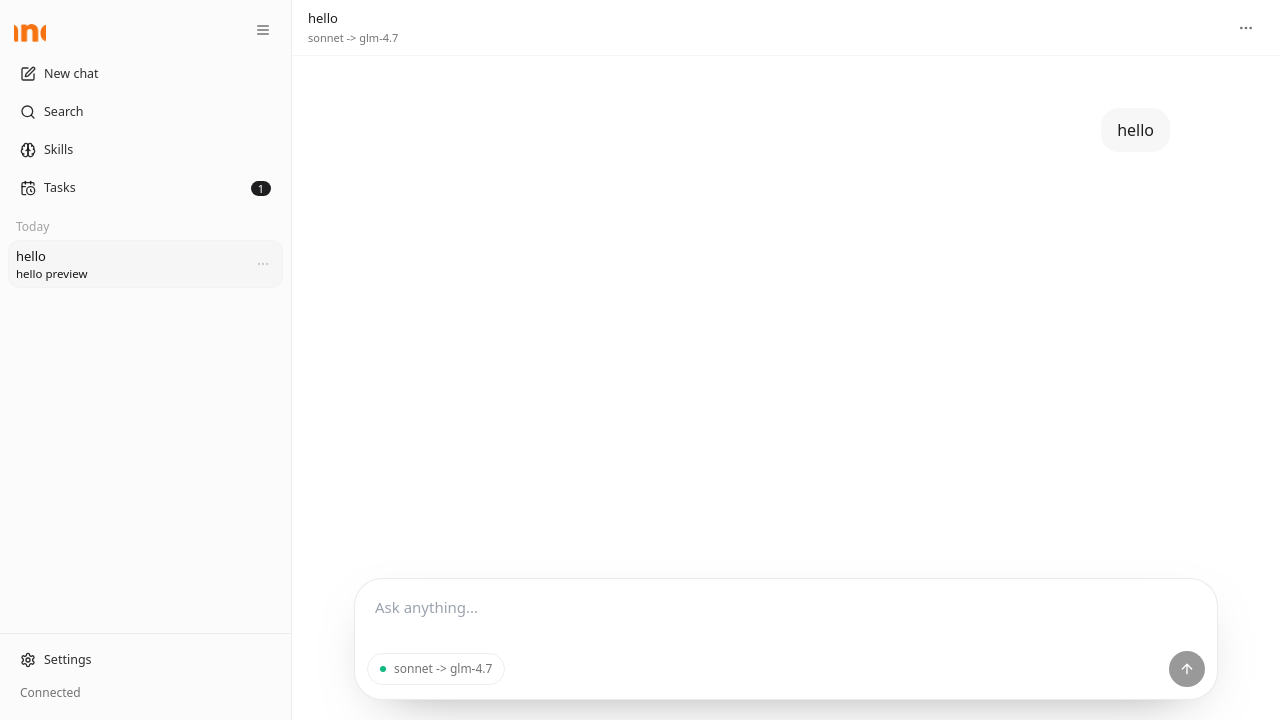
Test: App native layout › creates a draft chat and sends through native websocket frames
Expected: the text "hello" below "Today" is shown, [16,247,46,265]
Click the button "New chat" at (71, 73), box [8,58,283,90]
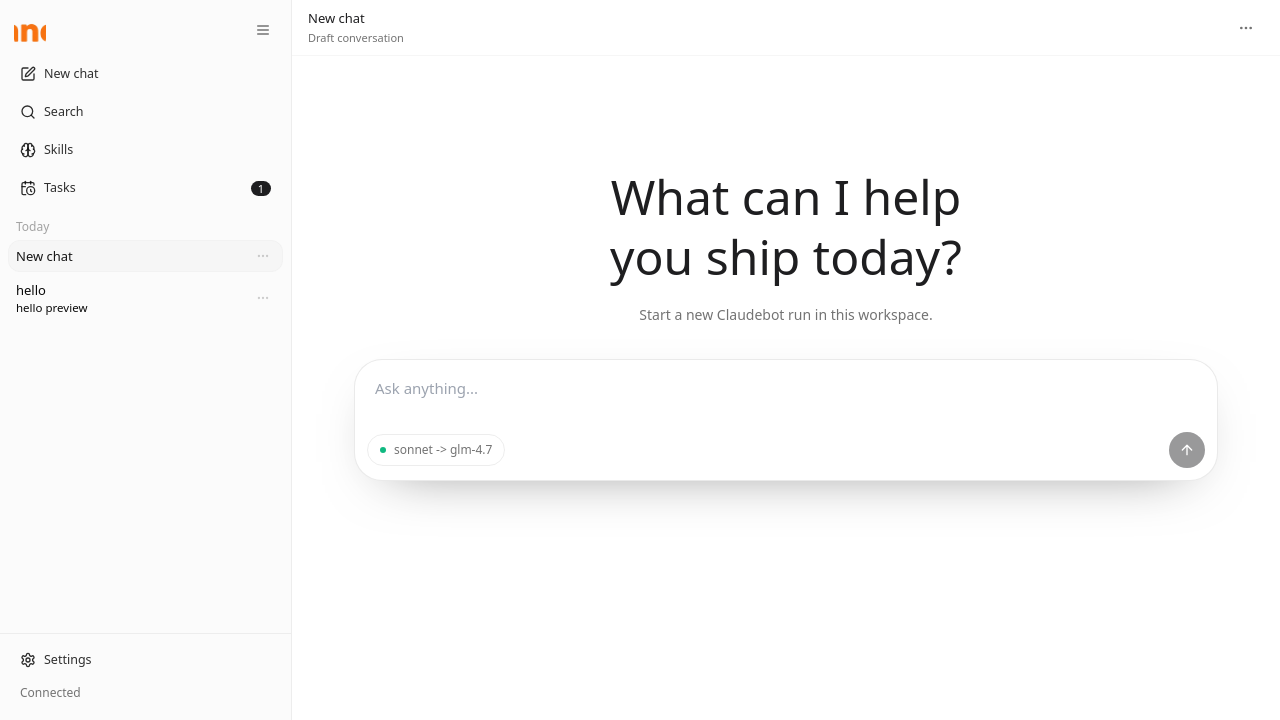
Type "ping" into the text box with placeholder "Ask anything..." at (786, 396), box [355,360,1217,432]
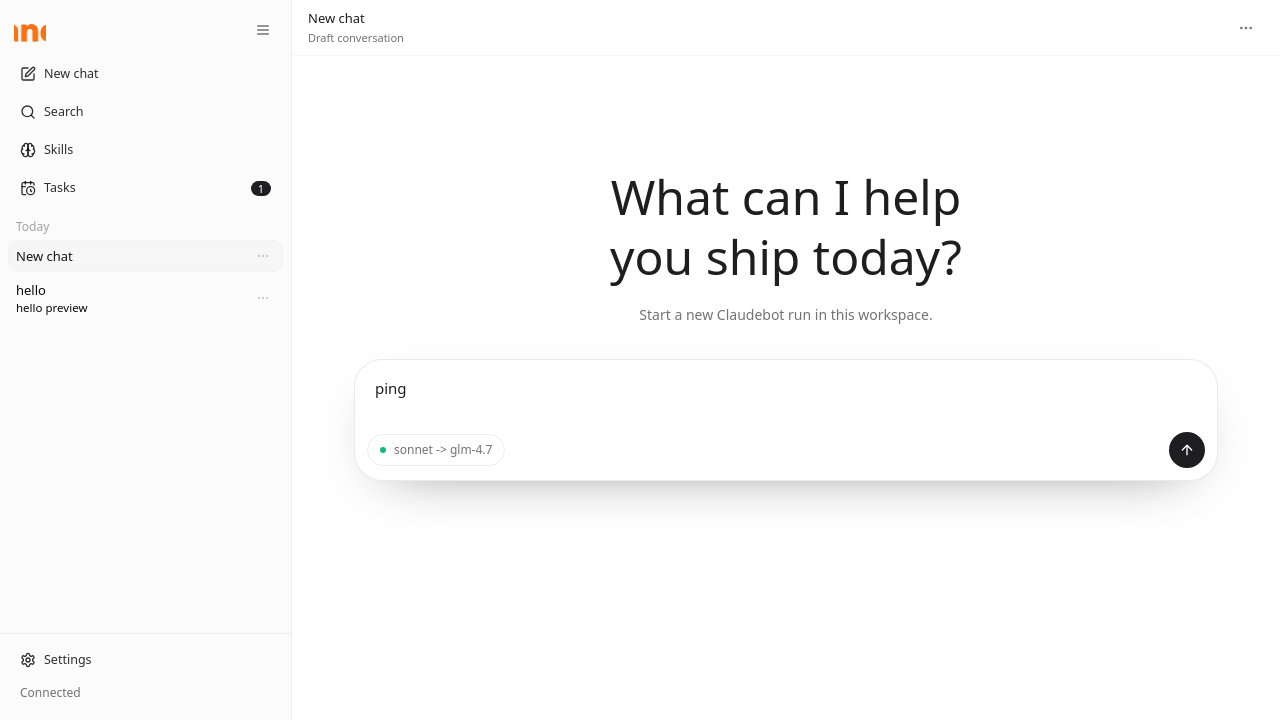
Click the button named "Send message" at (1187, 450), box [1169,432,1205,468]
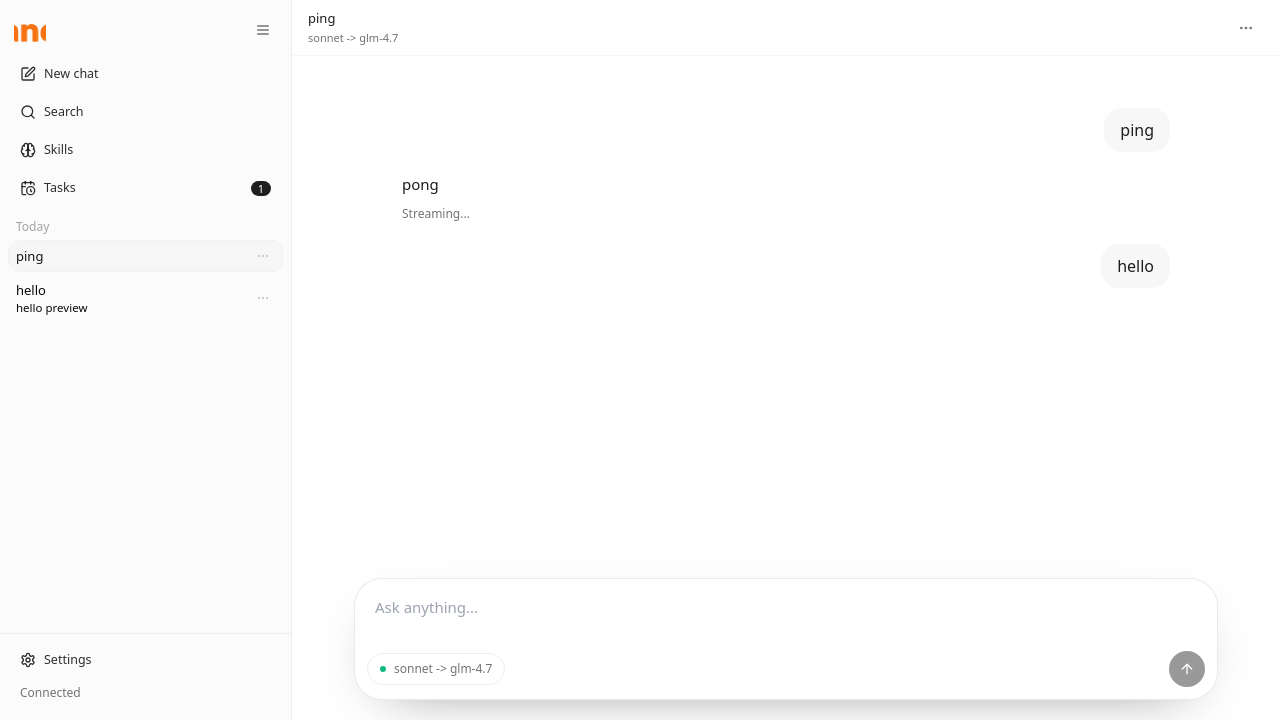
Expected: the text "ping" below "Today" is shown, [16,247,43,265]
Expected: the text "pong" is shown, [402,174,439,194]
